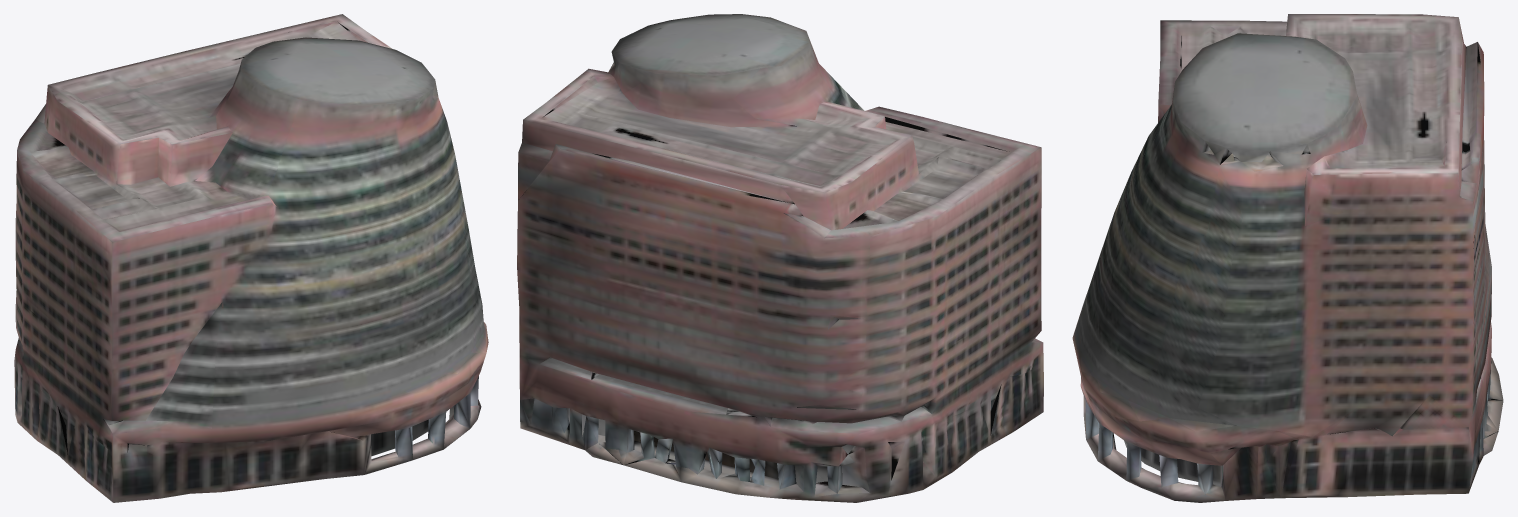
Rendered from thompson_center.glb.
3 views of the same model, side by side, from view 1: azimuth 30°, elevation 25°; view 2: azimuth 150°, elevation 25°; view 3: azimuth 270°, elevation 25° (orthographic). The views are drawn at different scales.
Parts seen in each view (by area): view 1: thompson_center; view 2: thompson_center; view 3: thompson_center.
Boxes of the visible parts, box(x1,y1,x2,y2) form: thompson_center: box(14, 14, 488, 502); thompson_center: box(517, 14, 1043, 502); thompson_center: box(1072, 14, 1503, 502).
Size of the model in its own units: 113 by 94 by 99.
Materials: 1 (1 with a texture image).
